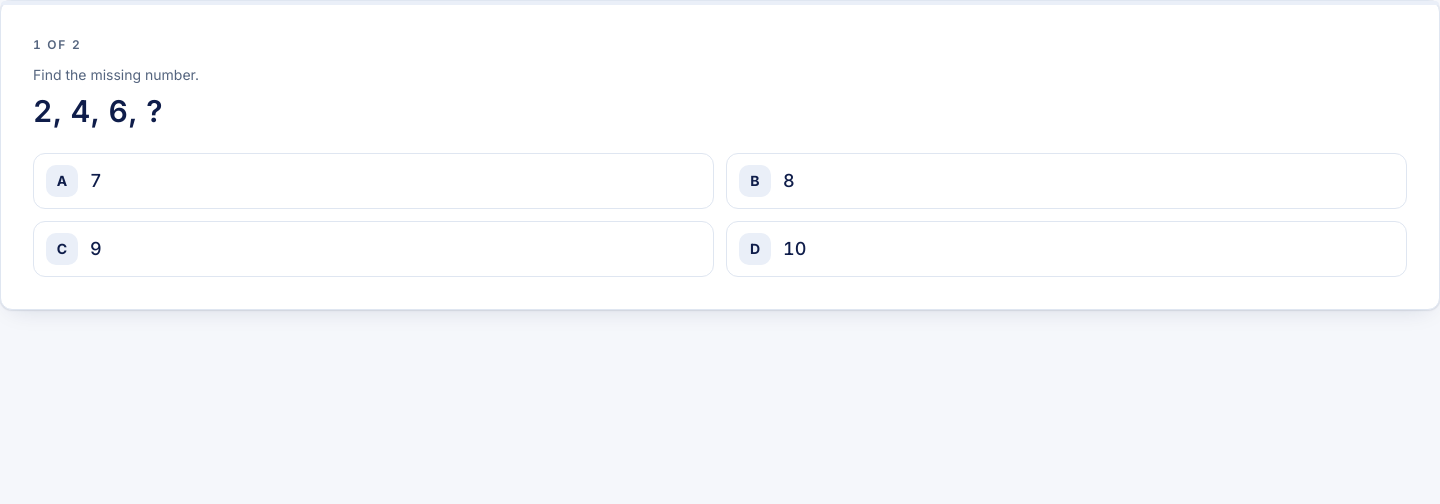
Test: chapter practice › a wrong answer names the right one
Click the button named "Option C". click: (62, 249)
box: x1=33 y1=221 x2=714 y2=277
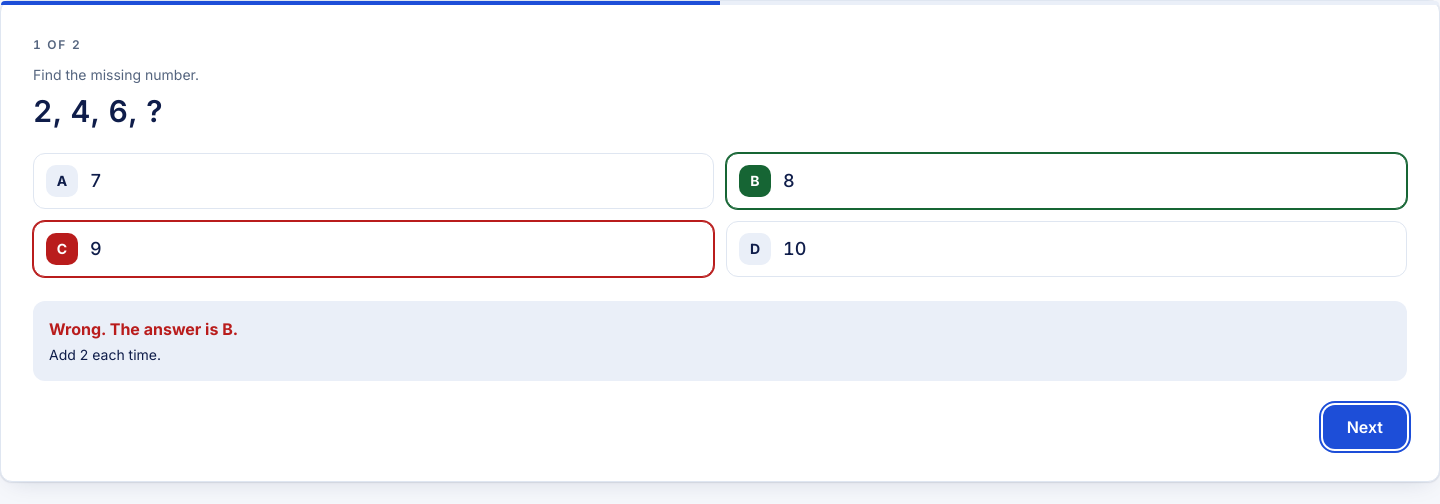
Now the message reads "Wrong. The answer is B. Add 2 each time.", box x1=49 y1=319 x2=238 y2=339
Now the text "Add 2 each time." is shown, box x1=49 y1=346 x2=161 y2=363
